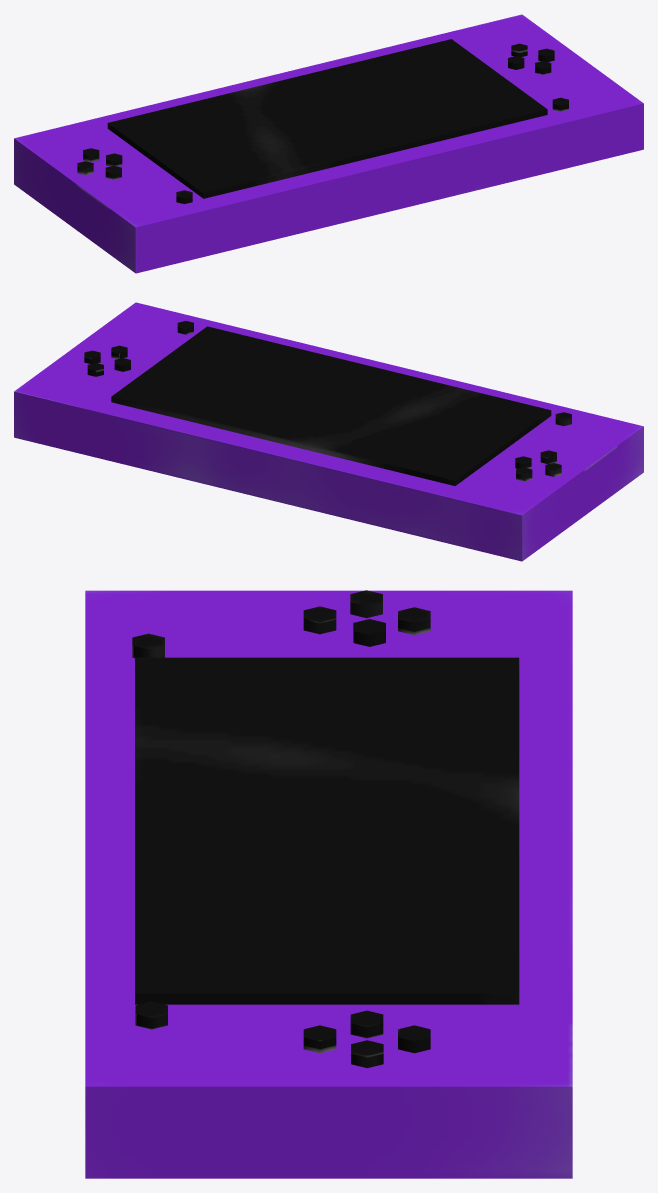
Rendered from switch exp resend.fbx.
The picture shows the model from 3 angles, top to bottom: view 1: azimuth 30°, elevation 25°; view 2: azimuth 150°, elevation 25°; view 3: azimuth 270°, elevation 25°; orthographic projection. The views are drawn at different scales.
Parts seen in each view (by area): view 1: Box050; view 2: Box050; view 3: Box050.
Boxes of the visible parts, x1,y1,x2,y2 form: Box050: [14, 14, 643, 273]; Box050: [14, 302, 643, 561]; Box050: [85, 590, 572, 1178].
Size of the model in its own units: 8.85 by 0.8667 by 3.67.
